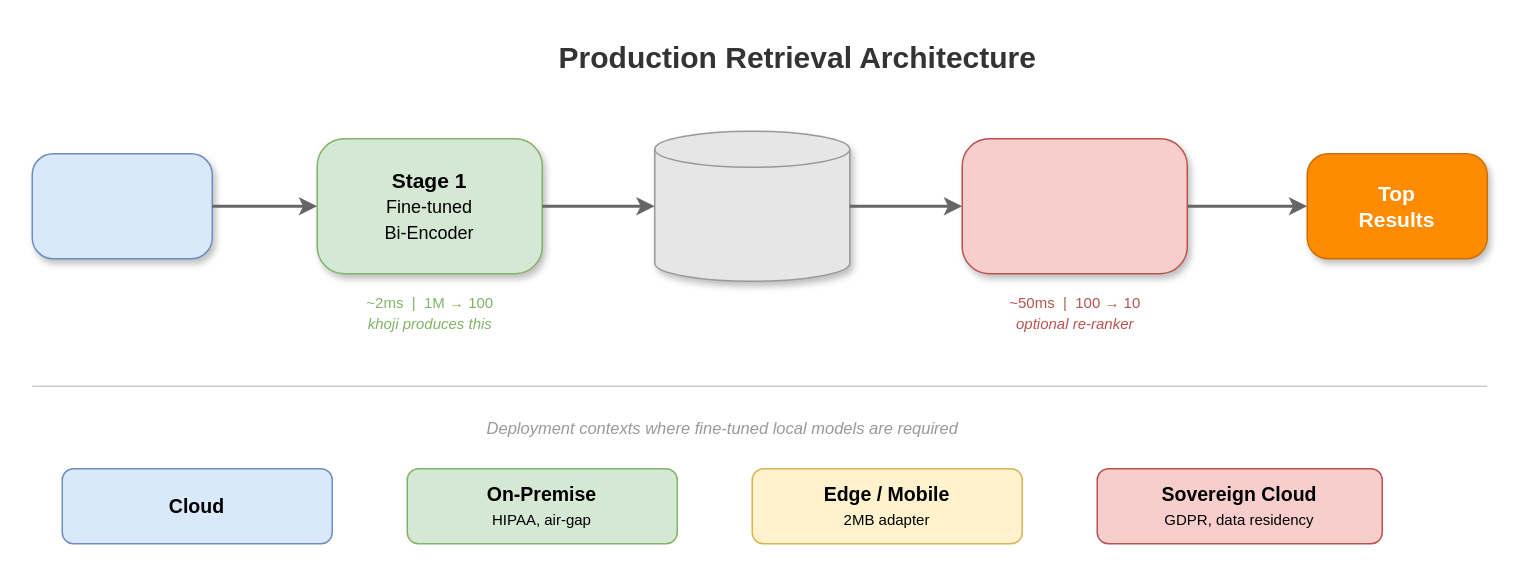
The diagram is 1523 pixels wide and 570 high, and some of its shapes have lost their labels. Here are the shapes that lost their labels. From the top down, the centre of each, then its label:
At (123,207): "User Query".
At (753,208): "ANN Index FAISS / Milvus".
At (1075,207): "Stage 2 Cross-Encoder or LLM".
